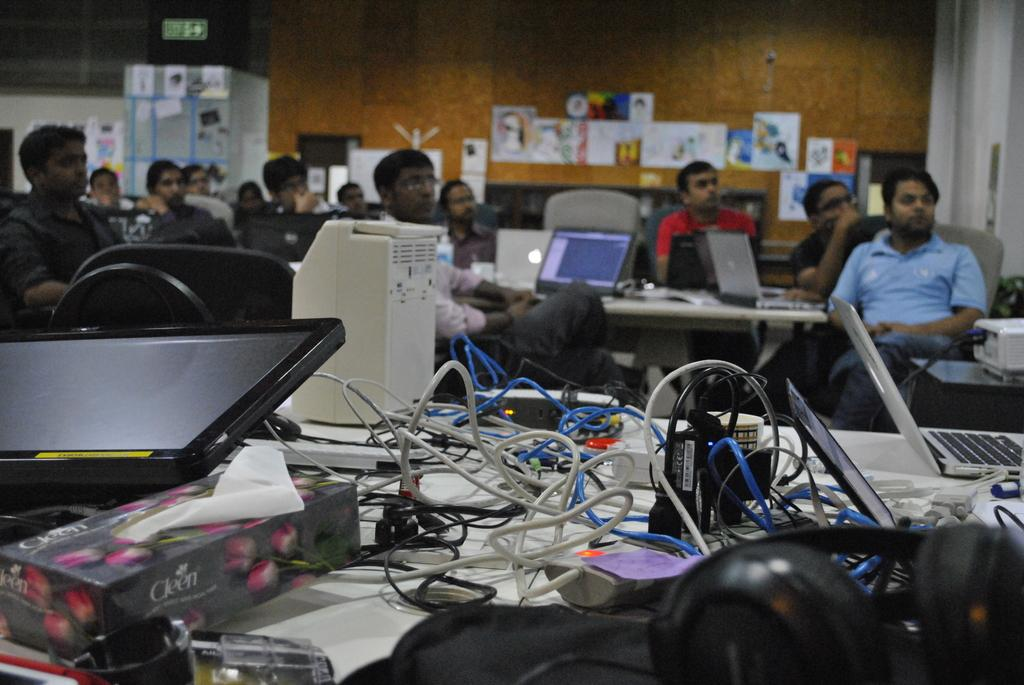Laptop: (826, 294, 1023, 481), (786, 376, 900, 533), (703, 231, 824, 310), (536, 205, 647, 289), (666, 235, 760, 285), (493, 228, 553, 288)
